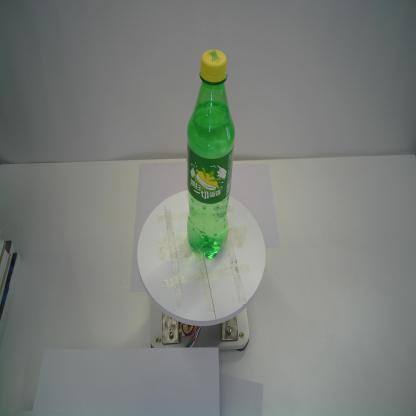Drink: (184, 48, 236, 262)
